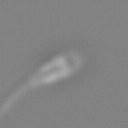normal: (1, 71, 36, 115)
